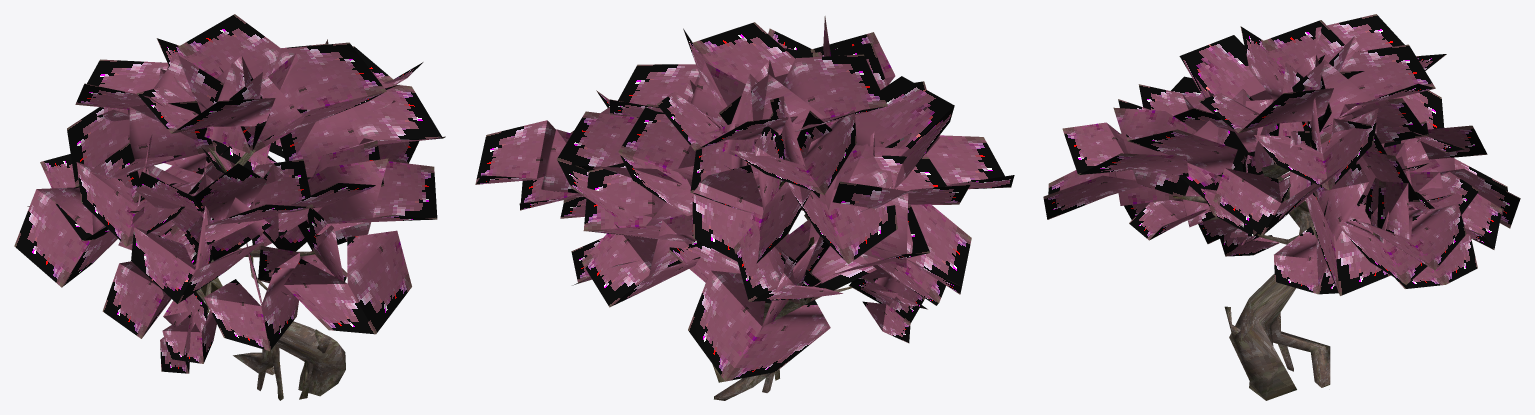
3 views of the same model, side by side, from view 1: azimuth 30°, elevation 25°; view 2: azimuth 150°, elevation 25°; view 3: azimuth 270°, elevation 25° (orthographic). The views are drawn at different scales.
Visible parts, largest first — view 1: DrawCall_1049; view 2: DrawCall_1049; view 3: DrawCall_1049.
Boxes of the visible parts, x1,y1,x2,y2 form: DrawCall_1049: (14,14,445,400); DrawCall_1049: (475,16,1014,400); DrawCall_1049: (1043,14,1520,400).
Size of the model in its own units: 16.67 by 12.1 by 16.44.
Materials: 1 (1 with a texture image).
